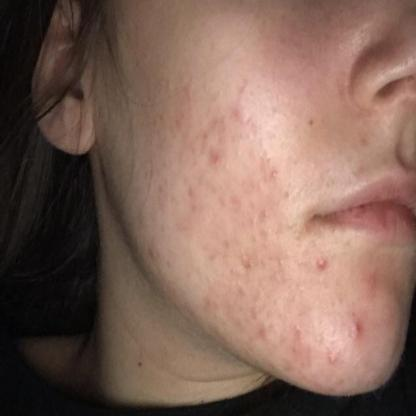Acne: (346, 310, 365, 344), (312, 254, 335, 277)
